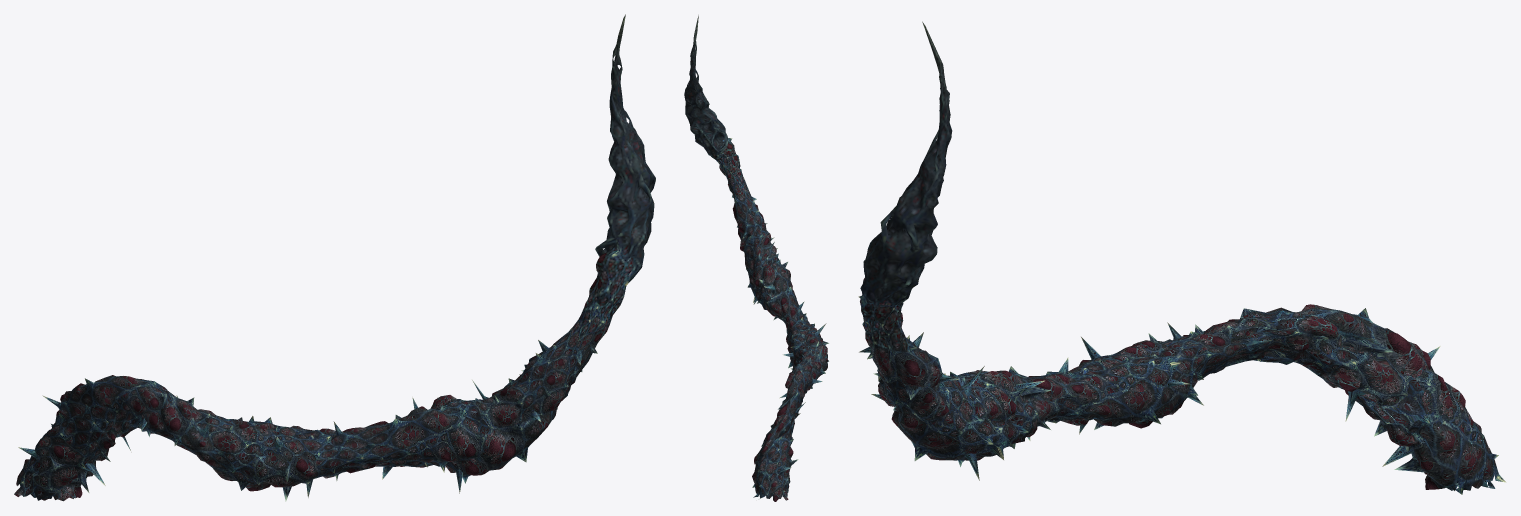
The model's file is L03_Heltree26.fbx.
The picture shows the model from 3 angles, left to right: view 1: azimuth 30°, elevation 25°; view 2: azimuth 150°, elevation 25°; view 3: azimuth 270°, elevation 25°; orthographic projection. The views are drawn at different scales.
Parts seen in each view (by area): view 1: LODGroup_1_MainMesh_1_SubMesh_2, LODGroup_1_MainMesh_1_SubMesh_1, LODGroup_1_MainMesh_1_SubMesh_3; view 2: LODGroup_1_MainMesh_1_SubMesh_1, LODGroup_1_MainMesh_1_SubMesh_2, LODGroup_1_MainMesh_1_SubMesh_3; view 3: LODGroup_1_MainMesh_1_SubMesh_2, LODGroup_1_MainMesh_1_SubMesh_1, LODGroup_1_MainMesh_1_SubMesh_3.
Part boxes in pixels (box(x1,y1,x2,y2)): LODGroup_1_MainMesh_1_SubMesh_2: box(14, 335, 597, 501); LODGroup_1_MainMesh_1_SubMesh_1: box(16, 329, 594, 485); LODGroup_1_MainMesh_1_SubMesh_3: box(569, 14, 655, 348); LODGroup_1_MainMesh_1_SubMesh_1: box(734, 188, 825, 501); LODGroup_1_MainMesh_1_SubMesh_2: box(732, 195, 828, 500); LODGroup_1_MainMesh_1_SubMesh_3: box(684, 15, 748, 200); LODGroup_1_MainMesh_1_SubMesh_2: box(859, 304, 1495, 489); LODGroup_1_MainMesh_1_SubMesh_1: box(873, 308, 1506, 494); LODGroup_1_MainMesh_1_SubMesh_3: box(858, 21, 952, 353).
Size of the model in its own units: 1261 by 1644 by 1458.
